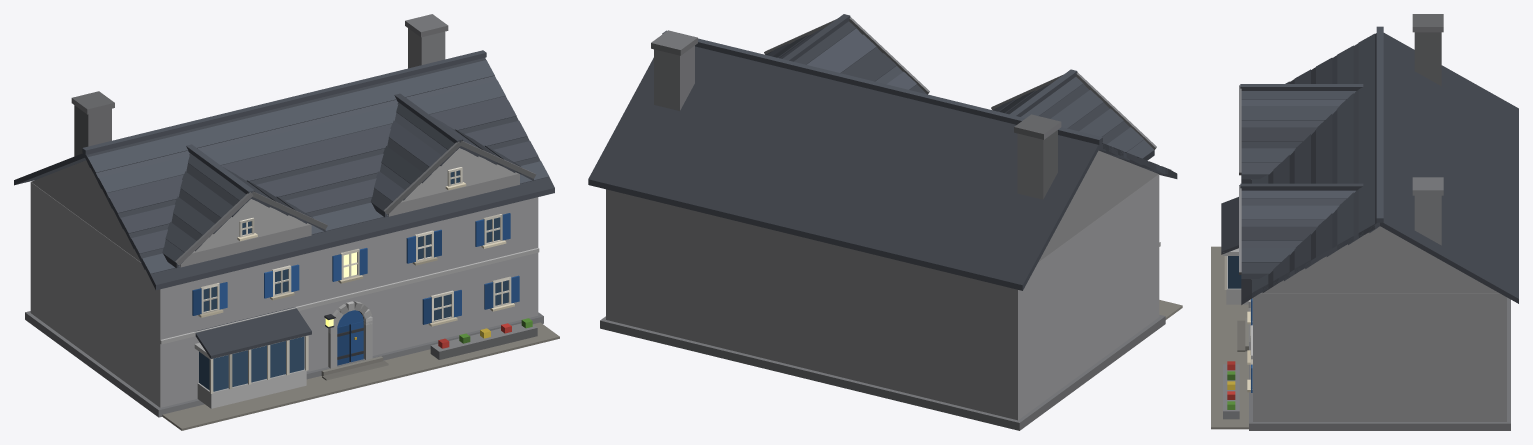
File: stonehaven_house.glb
The picture shows the model from 3 angles, left to right: view 1: azimuth 30°, elevation 25°; view 2: azimuth 150°, elevation 25°; view 3: azimuth 270°, elevation 25°; orthographic projection. The views are drawn at different scales.
Visible parts, largest first — view 1: stonehaven_house_body, stonehaven_house_ground; view 2: stonehaven_house_body; view 3: stonehaven_house_body, stonehaven_house_ground.
Part boxes in pixels (<box>): stonehaven_house_body: <box>14,14,554,417</box>; stonehaven_house_ground: <box>162,322,559,430</box>; stonehaven_house_body: <box>588,14,1177,430</box>; stonehaven_house_body: <box>1221,14,1518,430</box>; stonehaven_house_ground: <box>1211,246,1248,429</box>.
Size of the model in its own units: 20.03 by 11.65 by 13.61.
